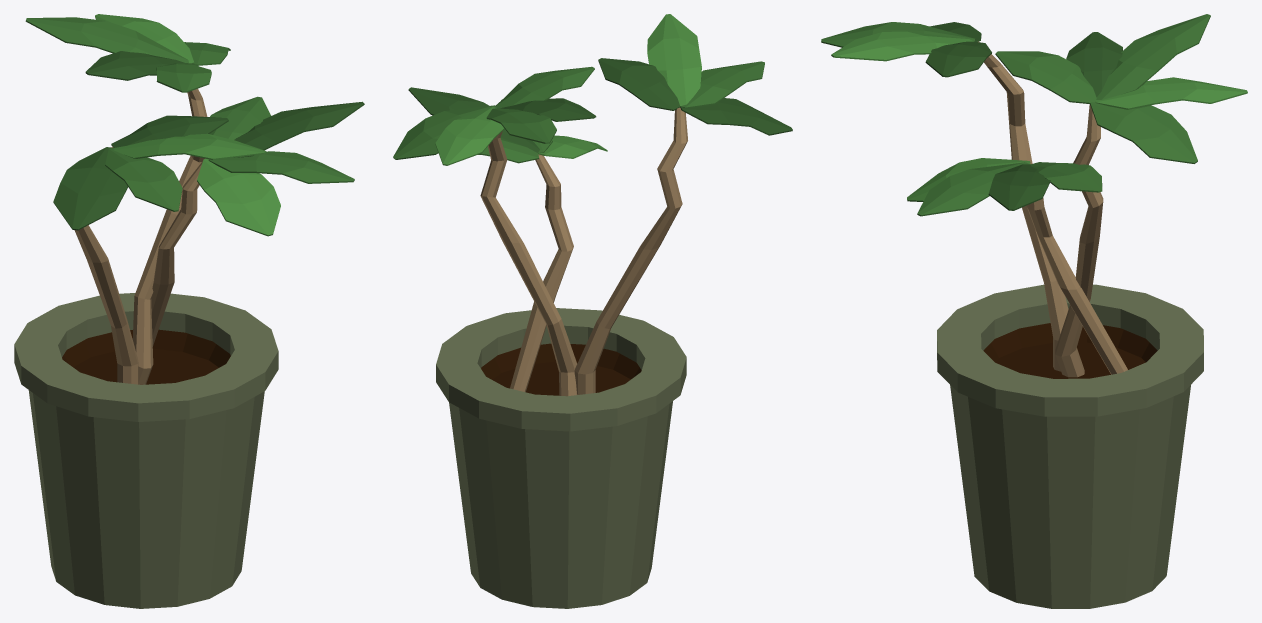
The model's file is plant3.fbx.
3 renders of one model, left to right at view 1: azimuth 30°, elevation 25°; view 2: azimuth 150°, elevation 25°; view 3: azimuth 270°, elevation 25°, orthographic. The views are drawn at different scales.
Parts seen in each view (by area): view 1: plant3; view 2: plant3; view 3: plant3.
Boxes of the visible parts, left/top/right/bottom form: plant3: left=14, top=14, right=364, bottom=608; plant3: left=393, top=14, right=792, bottom=608; plant3: left=821, top=14, right=1247, bottom=608.
Bounding box in the file's own units: 0.2225 × 0.314 × 0.2302.
